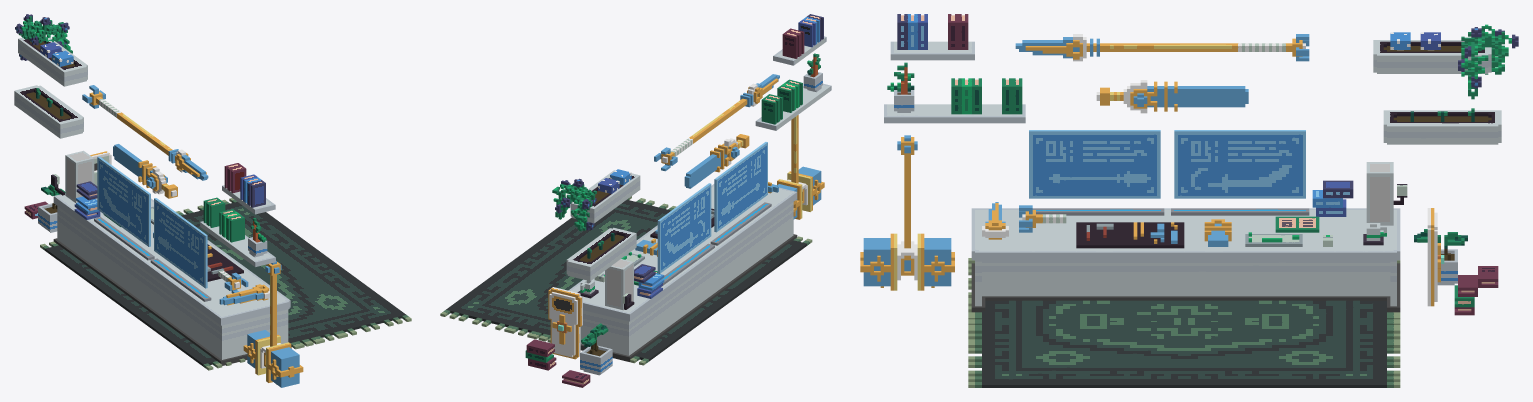
The model's file is War Room.gltf.
3 renders of one model, left to right at view 1: azimuth 30°, elevation 25°; view 2: azimuth 150°, elevation 25°; view 3: azimuth 270°, elevation 25°, orthographic. The views are drawn at different scales.
Parts seen in each view (by area): view 1: Content-Mesh; view 2: Content-Mesh; view 3: Content-Mesh.
Part boxes in pixels (x1=…): Content-Mesh: x1=14, y1=14, x2=411, y2=387; Content-Mesh: x1=440, y1=14, x2=831, y2=387; Content-Mesh: x1=860, y1=14, x2=1518, y2=387.
Bounding box in the file's own units: 89 × 84 × 195.
Materials: 1 (1 with a texture image).
